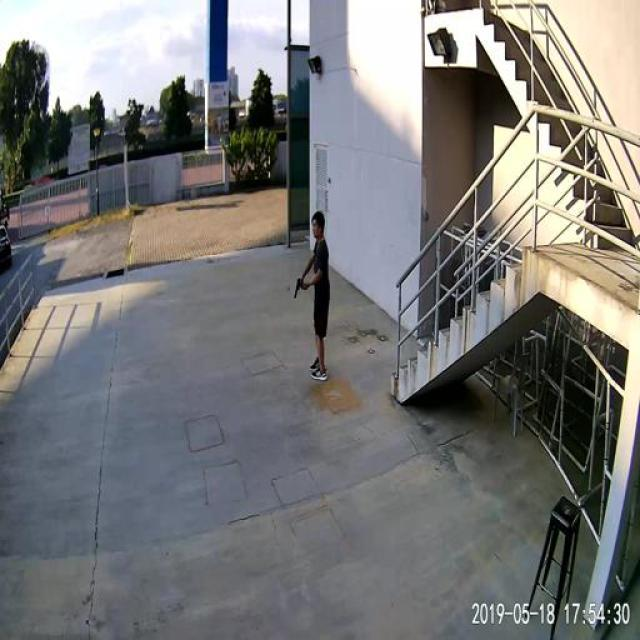Gun: (286, 276, 316, 310)
